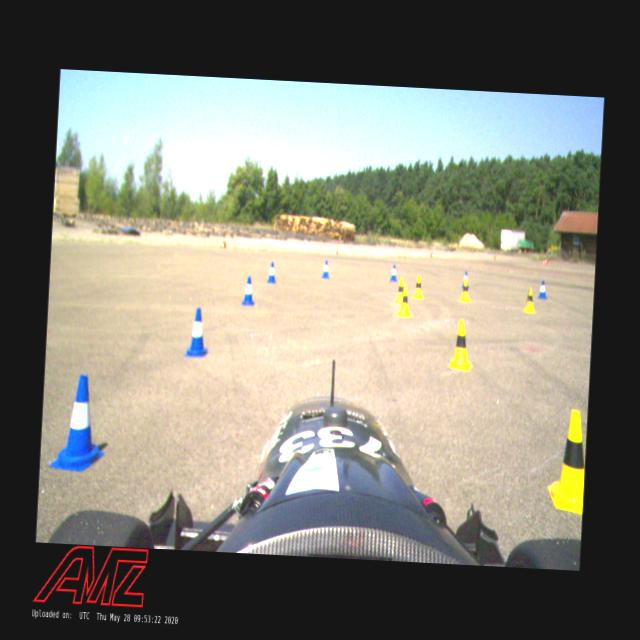blue_cone: (50, 372, 109, 474), (184, 307, 210, 358), (241, 276, 256, 306), (266, 262, 276, 284), (320, 258, 330, 278), (538, 279, 548, 298), (462, 270, 471, 290), (390, 264, 398, 282)
orange_cone: (542, 258, 549, 264), (221, 241, 226, 249), (336, 250, 341, 256), (430, 252, 434, 258), (494, 255, 498, 261)
yellow_cone: (544, 408, 588, 514), (449, 317, 474, 372), (398, 286, 412, 318), (524, 287, 538, 313), (412, 273, 424, 299), (394, 278, 406, 304), (459, 280, 471, 304)
